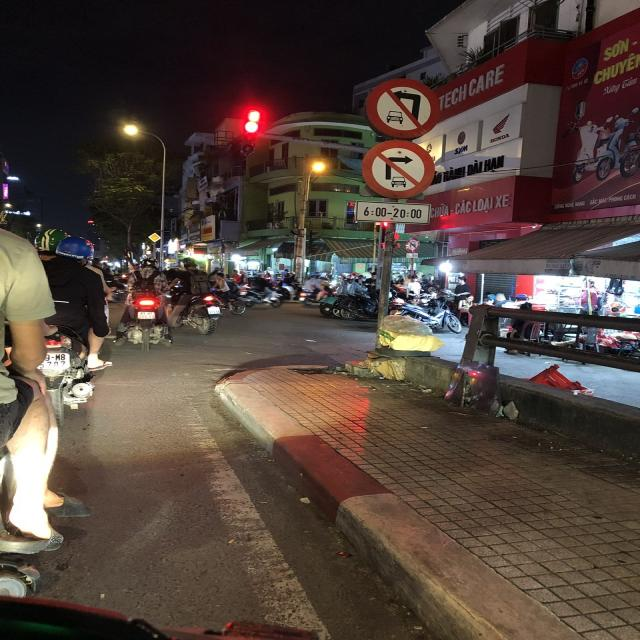Bien bao cam xe o to re phai: (362, 138, 438, 199)
Bien bao cam xe o to re trai: (362, 76, 444, 140)
